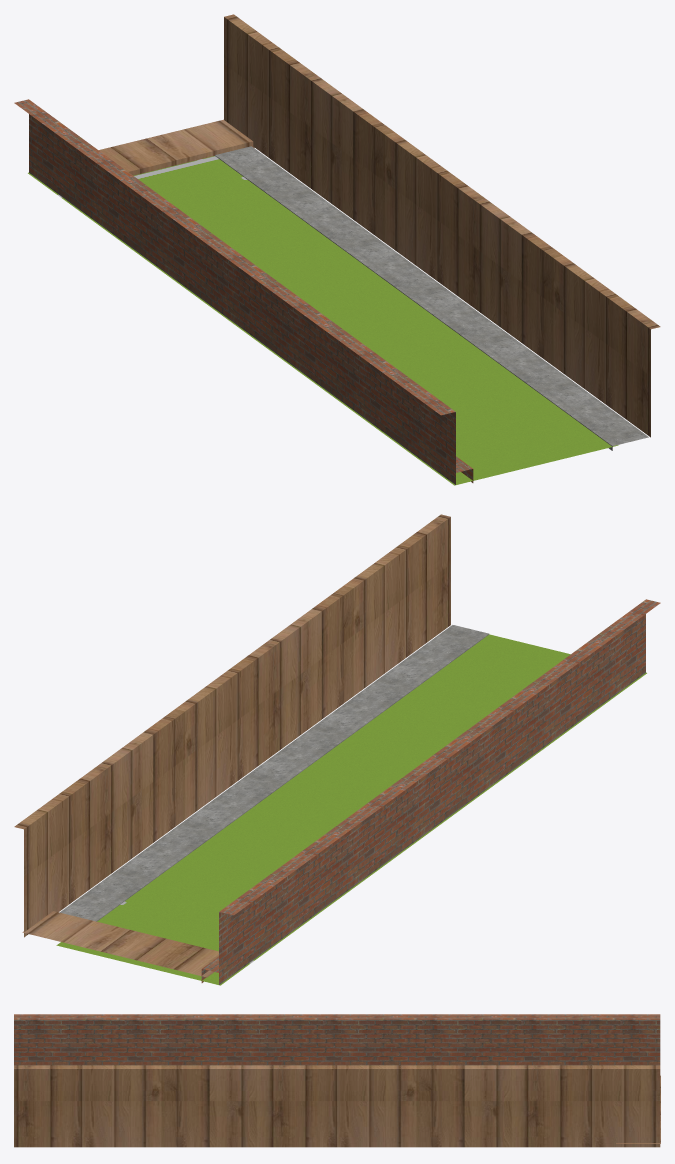
The picture shows the model from 3 angles, top to bottom: view 1: azimuth 30°, elevation 25°; view 2: azimuth 150°, elevation 25°; view 3: azimuth 270°, elevation 25°; orthographic projection. The views are drawn at different scales.
Parts seen in each view (by area): view 1: 6 bg.001, 6 bg, 6 bg.002, 6 bg.005, 6 bg.004; view 2: 6 bg.001, 6 bg, 6 bg.002, 6 bg.005, 6 bg.004; view 3: 6 bg.001, 6 bg.002.
Part boxes in pixels (<box>): 6 bg.001: <box>224,14,660,437</box>; 6 bg: <box>28,156,618,485</box>; 6 bg.002: <box>14,99,455,484</box>; 6 bg.005: <box>215,146,648,450</box>; 6 bg.004: <box>98,119,254,175</box>; 6 bg.001: <box>14,514,450,937</box>; 6 bg: <box>56,634,646,985</box>; 6 bg.002: <box>219,599,660,984</box>; 6 bg.005: <box>60,625,489,921</box>; 6 bg.004: <box>22,911,218,977</box>; 6 bg.001: <box>14,1065,660,1147</box>; 6 bg.002: <box>14,1014,660,1065</box>.
Size of the model in its own units: 1590 by 777 by 5351.
1 material, 1 textured.
